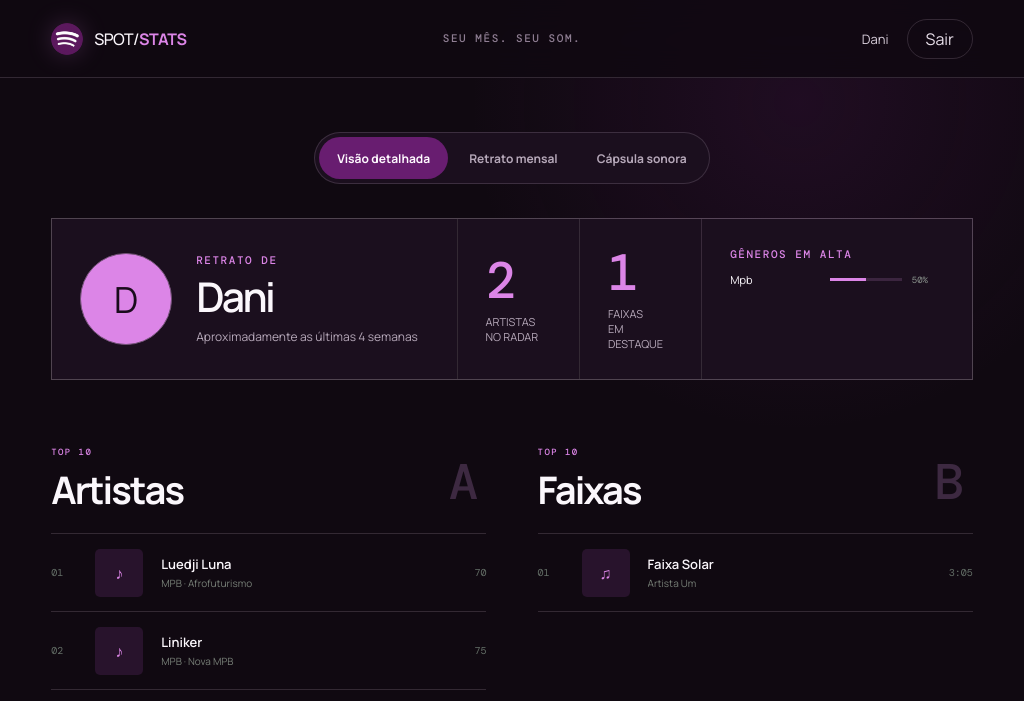
SpotStatsPage › alterna para a cápsula sonora com capa, edição e destaques reais
The image size is (1024, 701).
Click the tab "Cápsula sonora" at (642, 158), box 579,137 -> 705,179
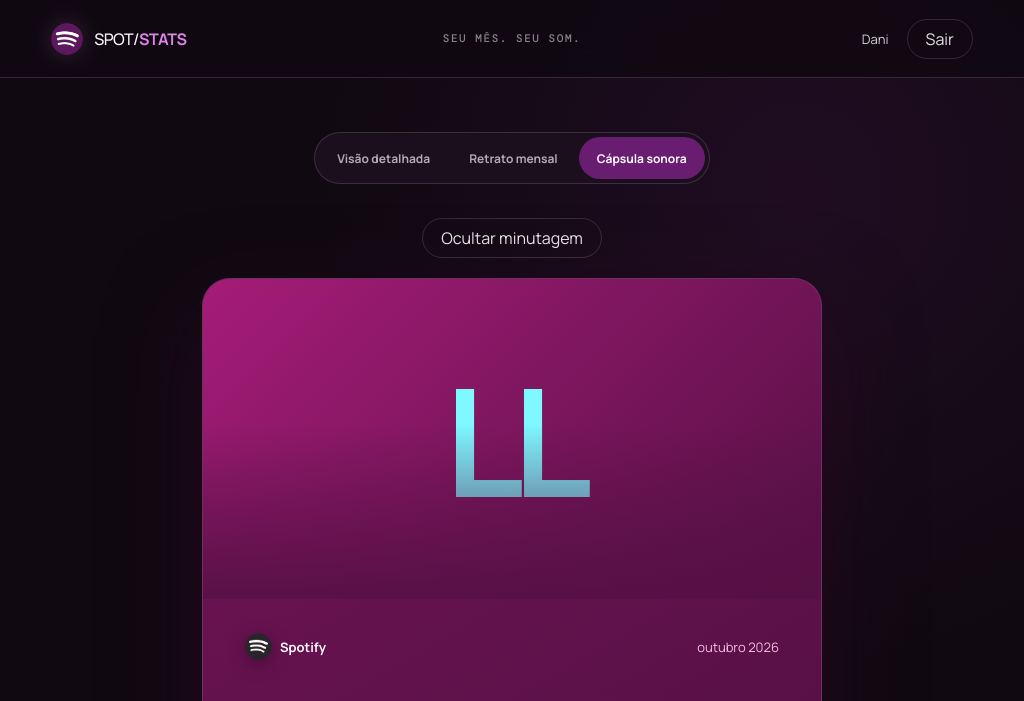
Expected: the text "Spotify" is shown, 245,633 -> 326,660
